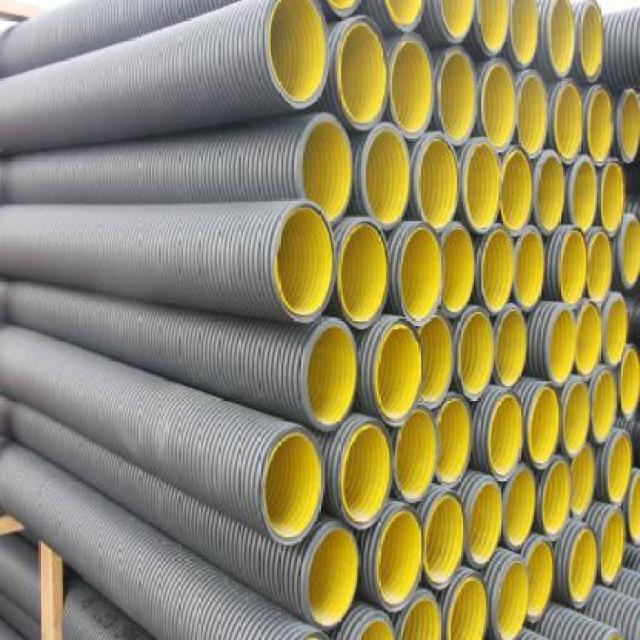pipe: (260, 428, 326, 546), (272, 203, 336, 322), (265, 0, 331, 111), (305, 319, 360, 432), (339, 418, 394, 530), (298, 116, 354, 225), (337, 218, 390, 330), (303, 525, 359, 629), (337, 16, 388, 130), (373, 319, 426, 426), (374, 506, 425, 614), (362, 123, 410, 230), (397, 221, 444, 326), (390, 33, 433, 139), (423, 492, 468, 590), (417, 134, 461, 231), (396, 406, 440, 502), (434, 46, 476, 143), (436, 395, 475, 487), (467, 475, 506, 566), (465, 139, 502, 234), (480, 58, 518, 150), (457, 308, 494, 402), (419, 316, 456, 409), (486, 391, 524, 481), (440, 222, 474, 318), (491, 557, 531, 638), (526, 382, 562, 469), (446, 573, 492, 639), (500, 146, 533, 234), (480, 226, 513, 314), (517, 71, 550, 158), (539, 456, 573, 540), (503, 465, 536, 550), (523, 537, 556, 622), (496, 306, 529, 390), (552, 80, 584, 166), (568, 526, 599, 610), (516, 226, 546, 310), (536, 152, 566, 233), (545, 0, 576, 77), (548, 306, 577, 387), (509, 0, 542, 71), (562, 378, 591, 456), (578, 0, 605, 82), (589, 368, 618, 444), (560, 228, 588, 306), (574, 300, 602, 378), (570, 155, 599, 230), (474, 0, 511, 58), (586, 228, 613, 306), (600, 159, 626, 239), (602, 294, 630, 368), (399, 594, 444, 640), (589, 87, 614, 166), (600, 509, 626, 584), (571, 445, 597, 519), (608, 431, 632, 506), (617, 88, 640, 165), (617, 345, 638, 419), (620, 217, 638, 290)
